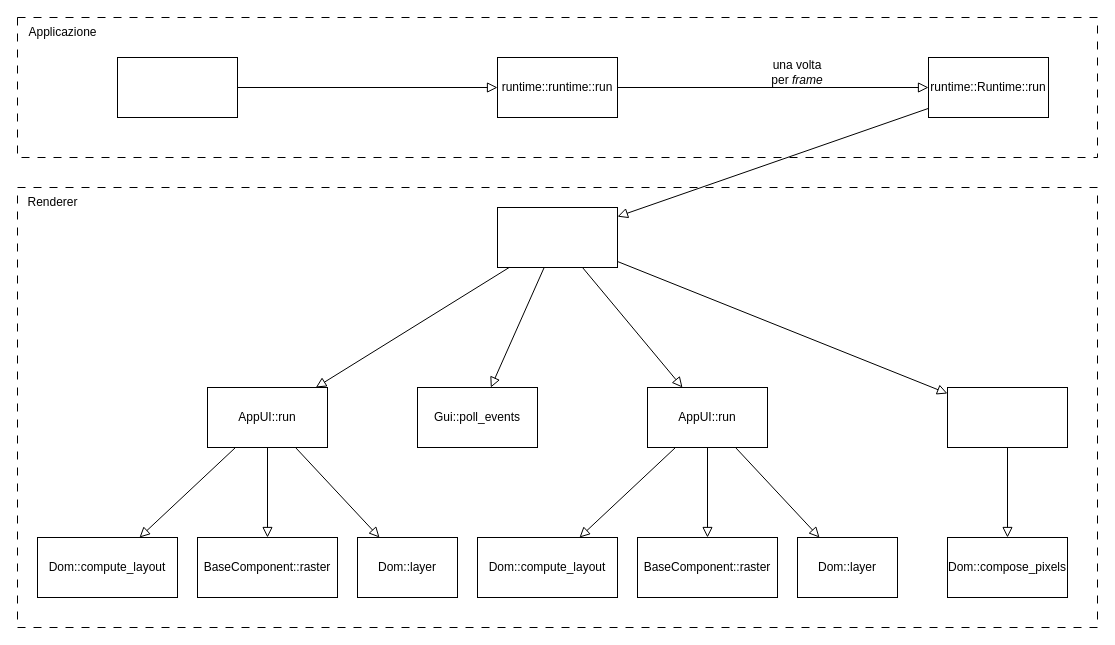
The diagram is 1115 pixels wide and 645 high, and some of its shapes have lost their labels. Here are the shapes that lost their labels. From the top down, the box of each, then its label:
(116, 56, 238, 118): main
(496, 206, 618, 268): AppUI::render_loop
(946, 386, 1068, 448): Gui::compose_pixels
